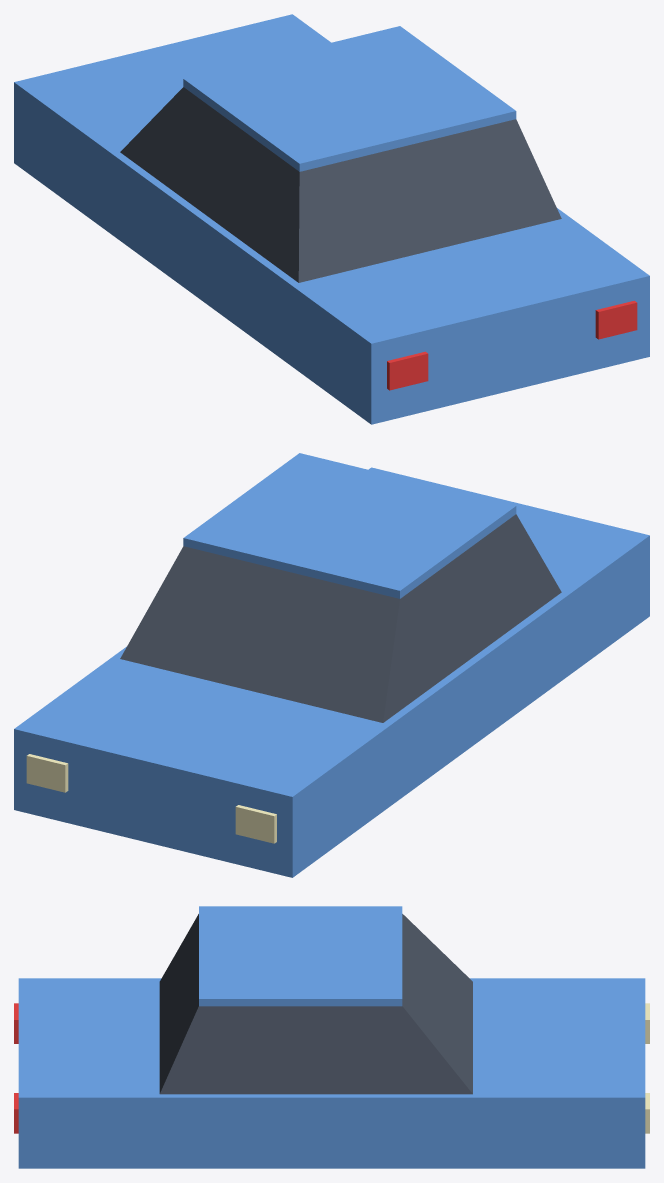
Rendered from car_body.glb.
The picture shows the model from 3 angles, top to bottom: view 1: azimuth 30°, elevation 25°; view 2: azimuth 150°, elevation 25°; view 3: azimuth 270°, elevation 25°; orthographic projection. The views are drawn at different scales.
Parts seen in each view (by area): view 1: Body; view 2: Body; view 3: Body.
Part boxes in pixels (bbox=[...]): Body: bbox=[14, 14, 649, 424]; Body: bbox=[14, 453, 649, 877]; Body: bbox=[14, 906, 649, 1168].
Size of the model in its own units: 1.8 by 1.1 by 4.06.
